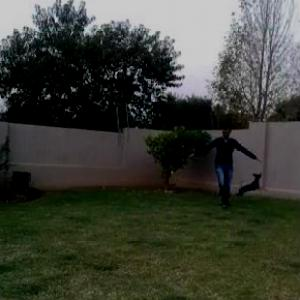land: (178, 119, 258, 213)
